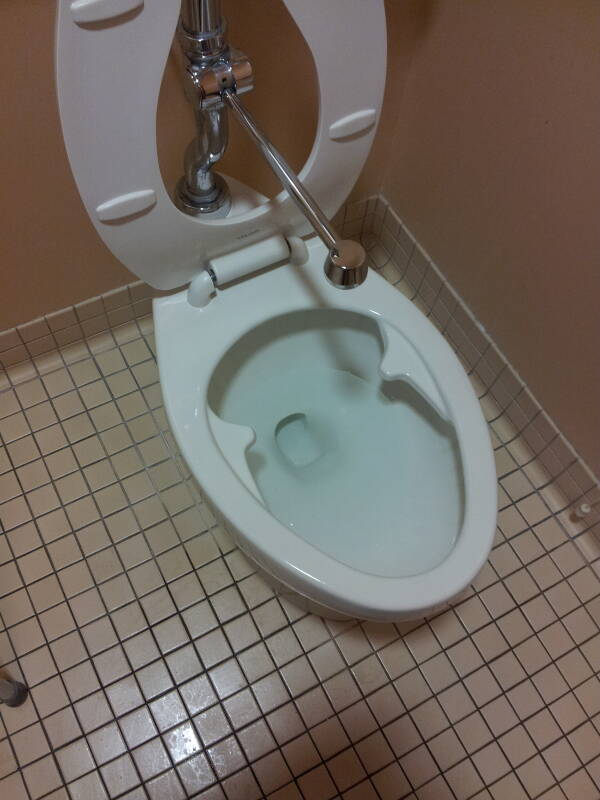toilet: (58, 1, 501, 626)
